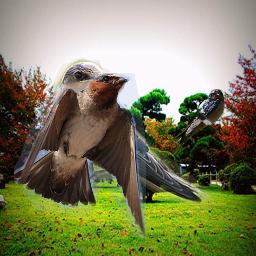Swallow: (53, 53, 218, 211), (14, 73, 146, 238), (173, 89, 225, 155)
